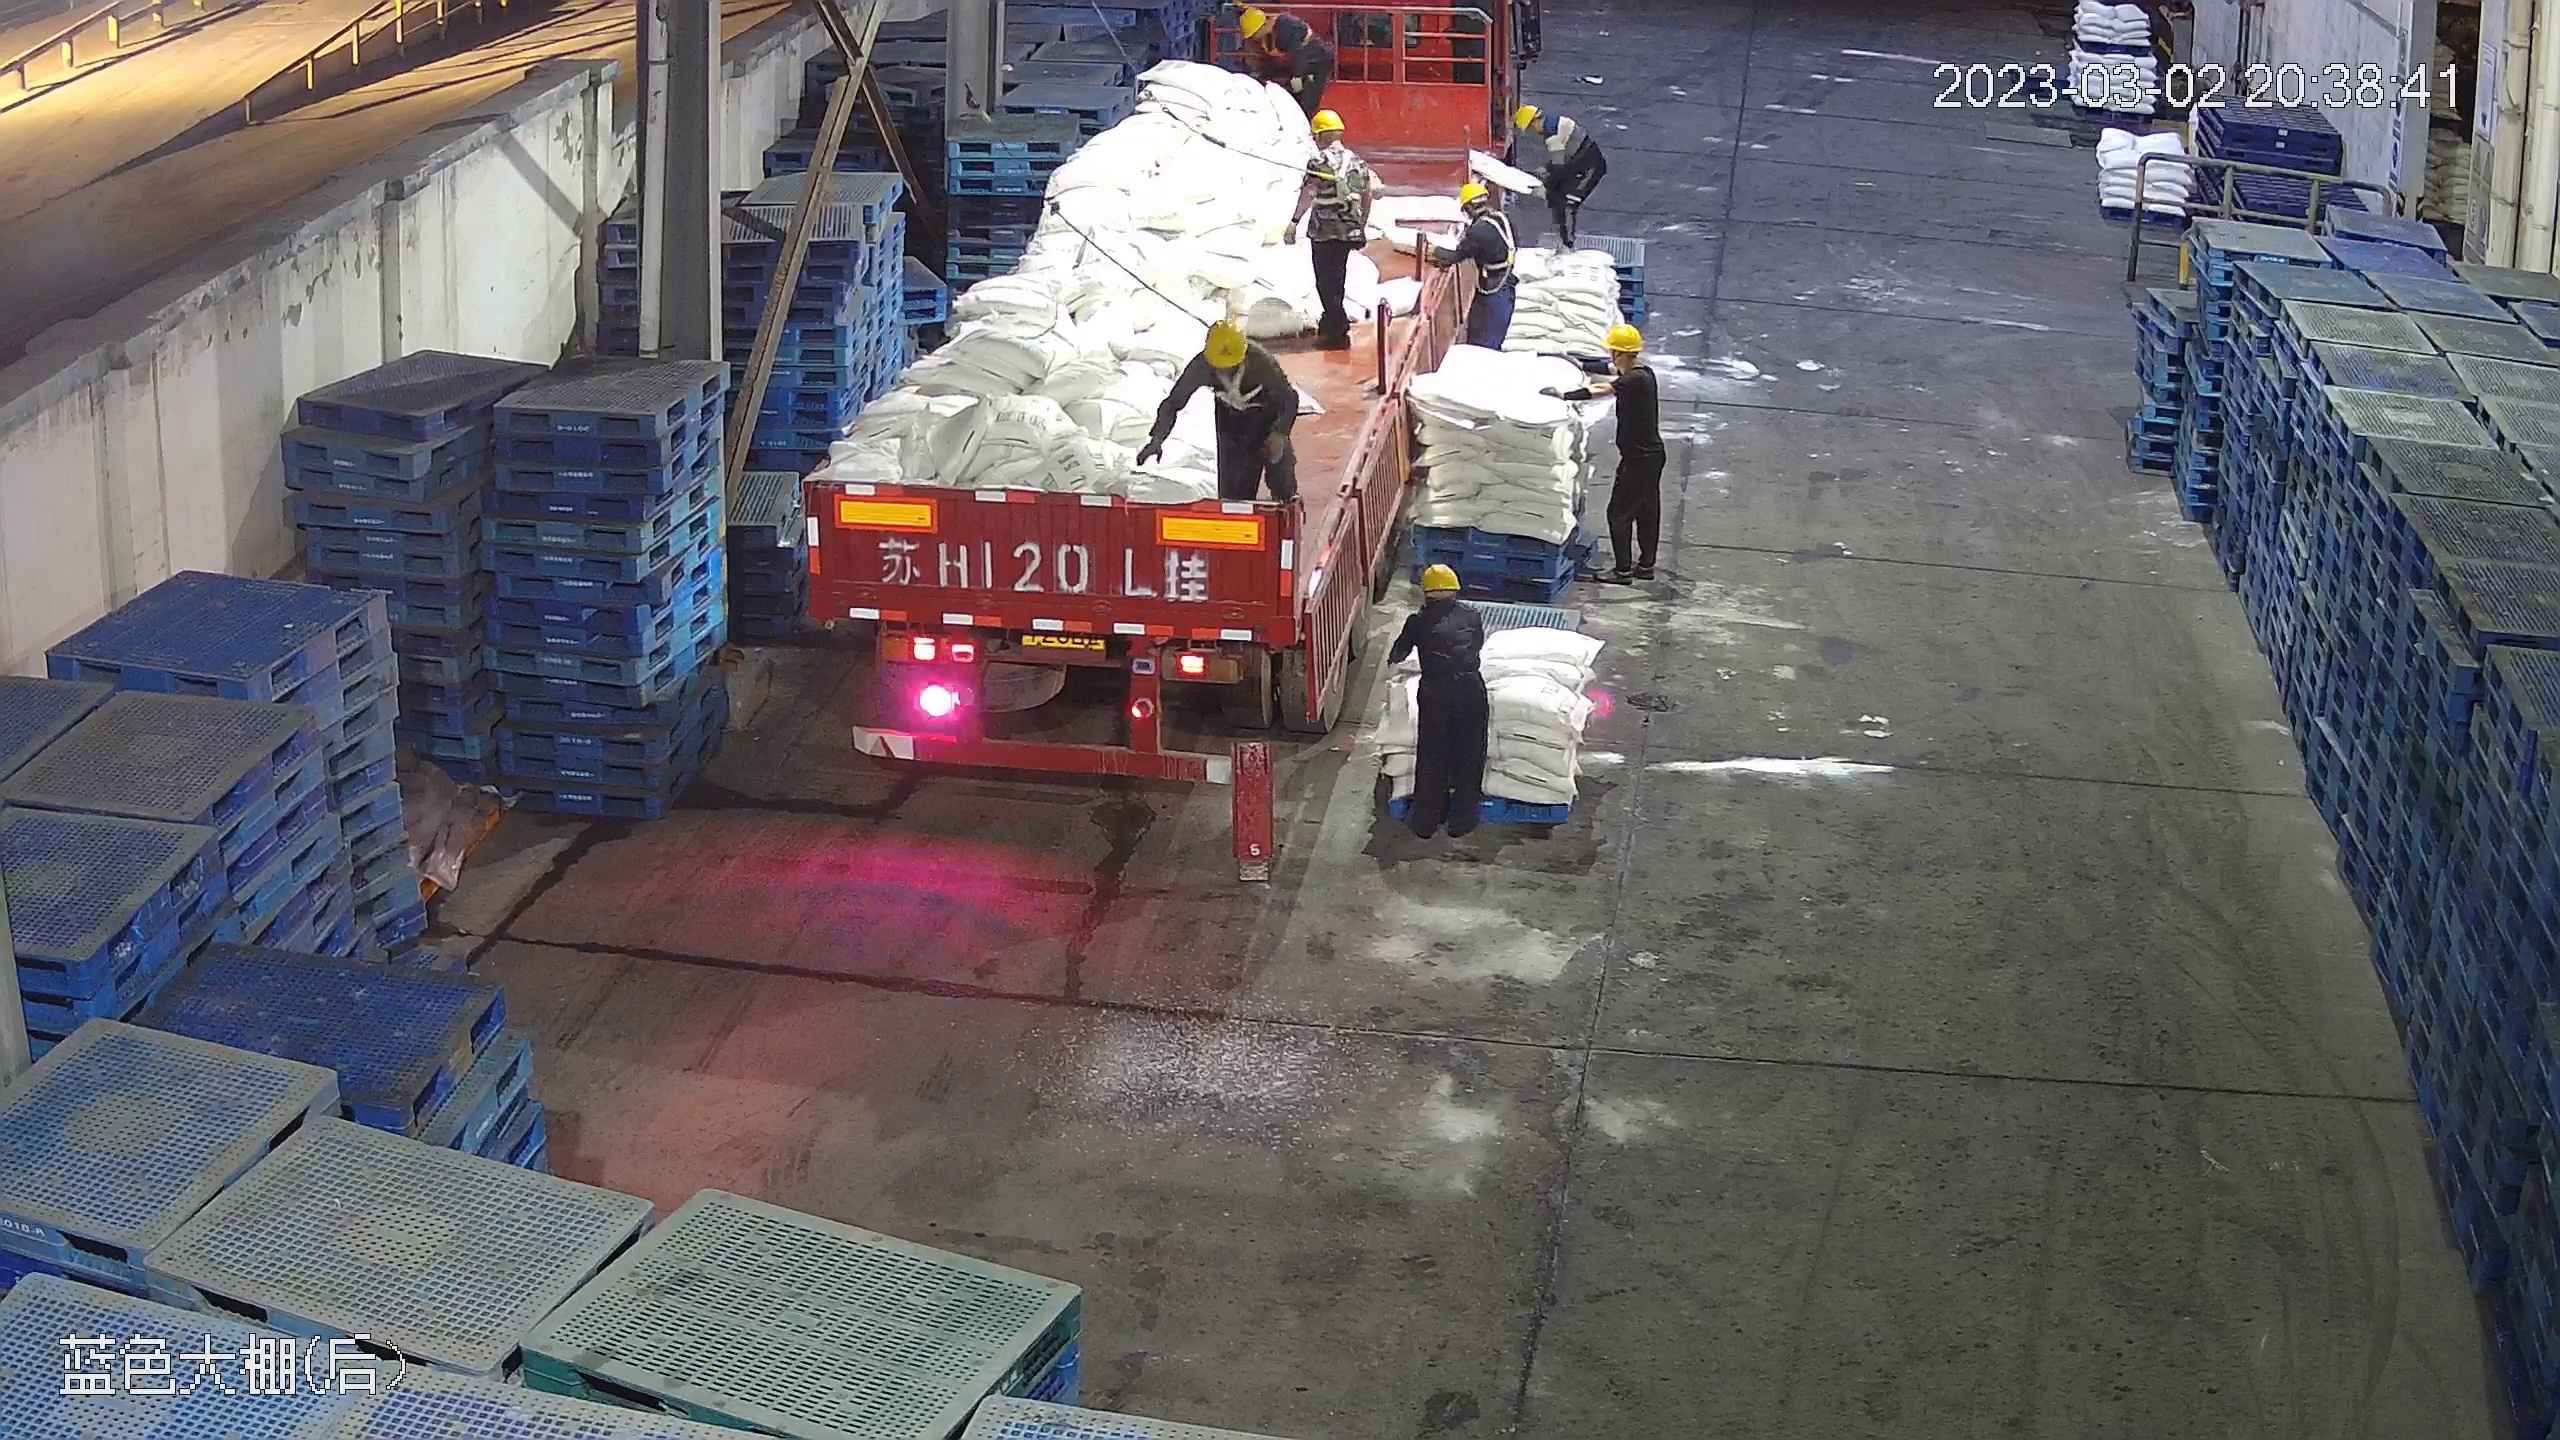belt: (1302, 110, 1367, 190), (1205, 348, 1272, 404), (1310, 141, 1365, 206), (1470, 212, 1523, 272), (1263, 6, 1312, 60)
head: (1184, 316, 1282, 398), (1402, 561, 1483, 648), (1589, 321, 1660, 397), (1298, 106, 1369, 172), (1452, 178, 1512, 248), (1237, 2, 1308, 53), (1506, 102, 1563, 151)
helmet: (1199, 316, 1248, 365), (1414, 560, 1462, 593), (1600, 321, 1646, 354), (1308, 106, 1345, 136), (1240, 5, 1272, 39), (1458, 179, 1492, 207), (1511, 104, 1538, 131)
people: (1135, 313, 1301, 516), (1378, 559, 1489, 851), (1564, 320, 1666, 582), (1283, 103, 1374, 352), (1435, 175, 1521, 356), (1504, 102, 1605, 253)
truck: (789, 30, 1479, 780)
